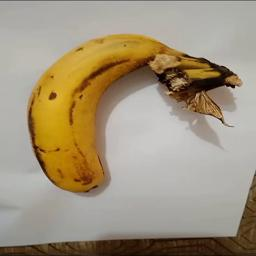Banana Semifresh: (27, 33, 243, 195)
